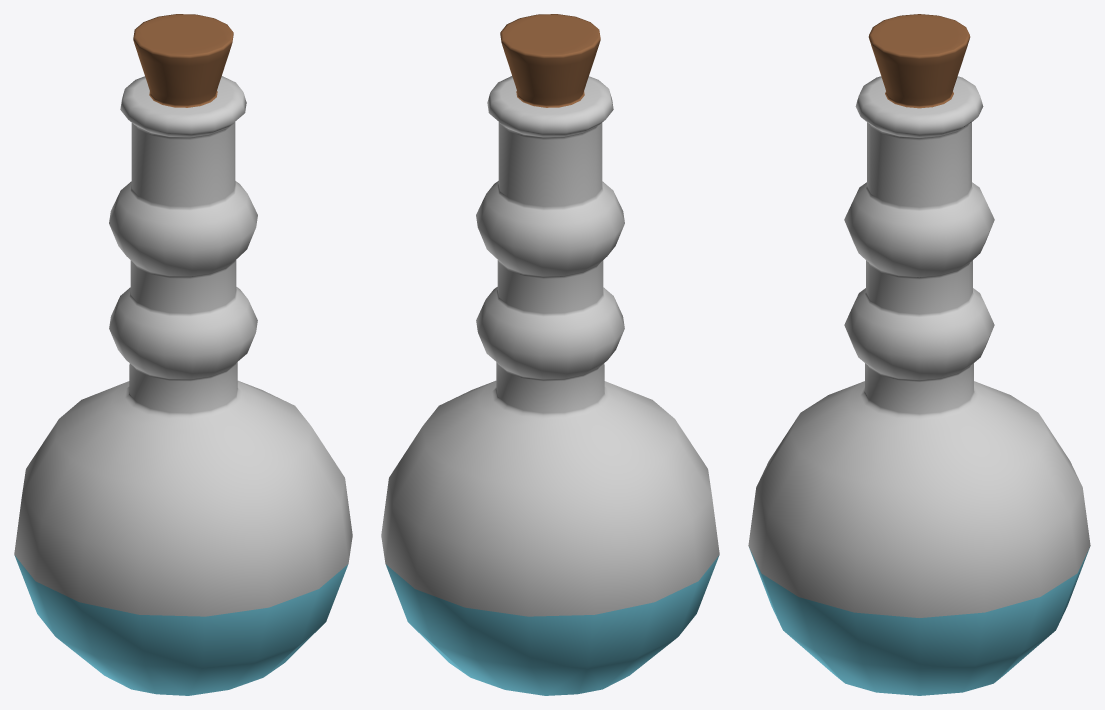
File: Pocion_3.fbx
3 views of the same model, side by side, from view 1: azimuth 30°, elevation 25°; view 2: azimuth 150°, elevation 25°; view 3: azimuth 270°, elevation 25° (orthographic).
Parts seen in each view (by area): view 1: Cube.001; view 2: Cube.001; view 3: Cube.001.
Part boxes in pixels (x1=…): Cube.001: x1=14, y1=14, x2=352, y2=695; Cube.001: x1=381, y1=14, x2=719, y2=695; Cube.001: x1=748, y1=14, x2=1090, y2=695.
Bounding box in the file's own units: 149 × 303 × 149.
